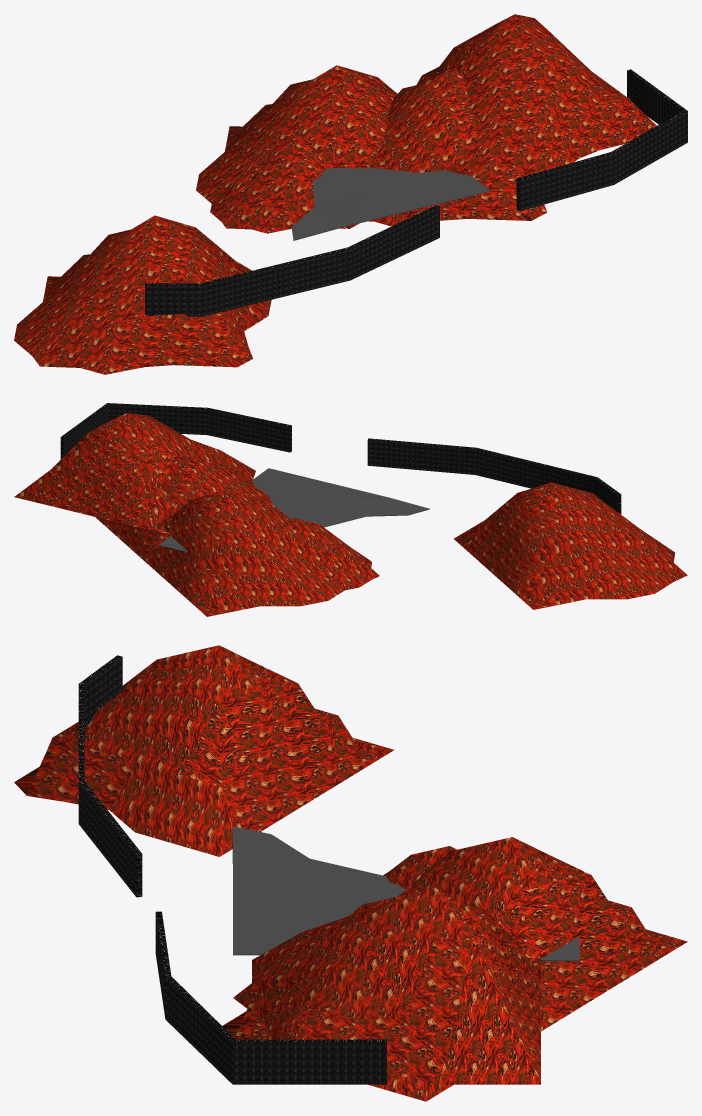
The picture shows the model from 3 angles, top to bottom: view 1: azimuth 30°, elevation 25°; view 2: azimuth 150°, elevation 25°; view 3: azimuth 270°, elevation 25°; orthographic projection. The views are drawn at different scales.
Parts seen in each view (by area): view 1: TRASH-COL, TRASHYARD_WALLS-COL, 01_street_base_plate-COL.013; view 2: TRASH-COL, TRASHYARD_WALLS-COL, 01_street_base_plate-COL.013; view 3: TRASH-COL, TRASHYARD_WALLS-COL, 01_street_base_plate-COL.013.
Boxes of the visible parts, left/top/right/bottom form: TRASH-COL: left=14, top=14, right=656, bottom=374; TRASHYARD_WALLS-COL: left=145, top=69, right=687, bottom=316; 01_street_base_plate-COL.013: left=291, top=167, right=490, bottom=240; TRASH-COL: left=14, top=413, right=687, bottom=616; TRASHYARD_WALLS-COL: left=60, top=403, right=621, bottom=514; 01_street_base_plate-COL.013: left=158, top=468, right=429, bottom=552; TRASH-COL: left=14, top=645, right=687, bottom=1101; TRASHYARD_WALLS-COL: left=78, top=655, right=386, bottom=1084; 01_street_base_plate-COL.013: left=232, top=826, right=579, bottom=961.
Size of the model in its own units: 881 by 166 by 560.
Materials: 3 (2 with a texture image).
